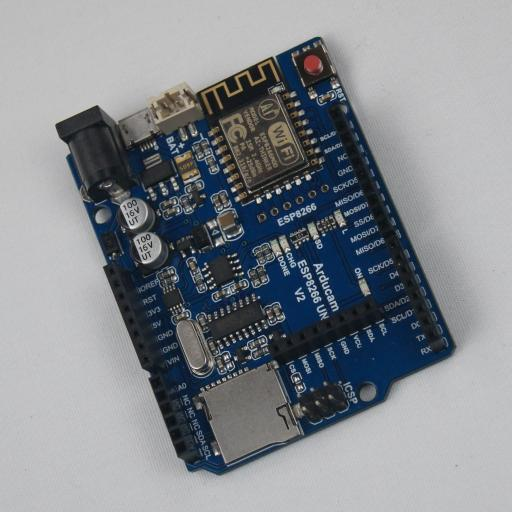Arduino Uno Camera Shield: (55, 37, 457, 475)
